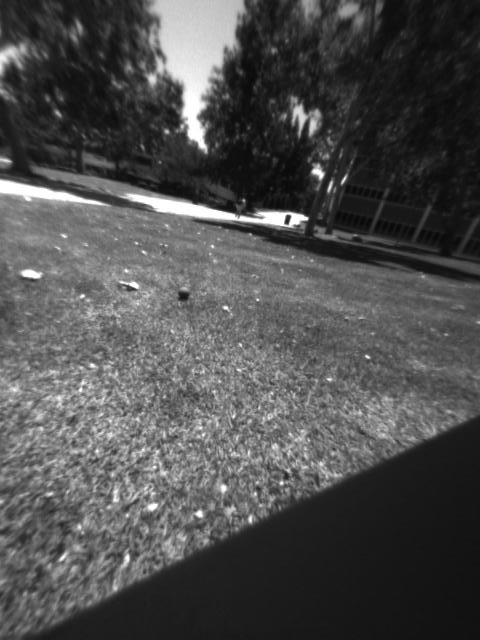dogtoy: (172, 282, 196, 304)
